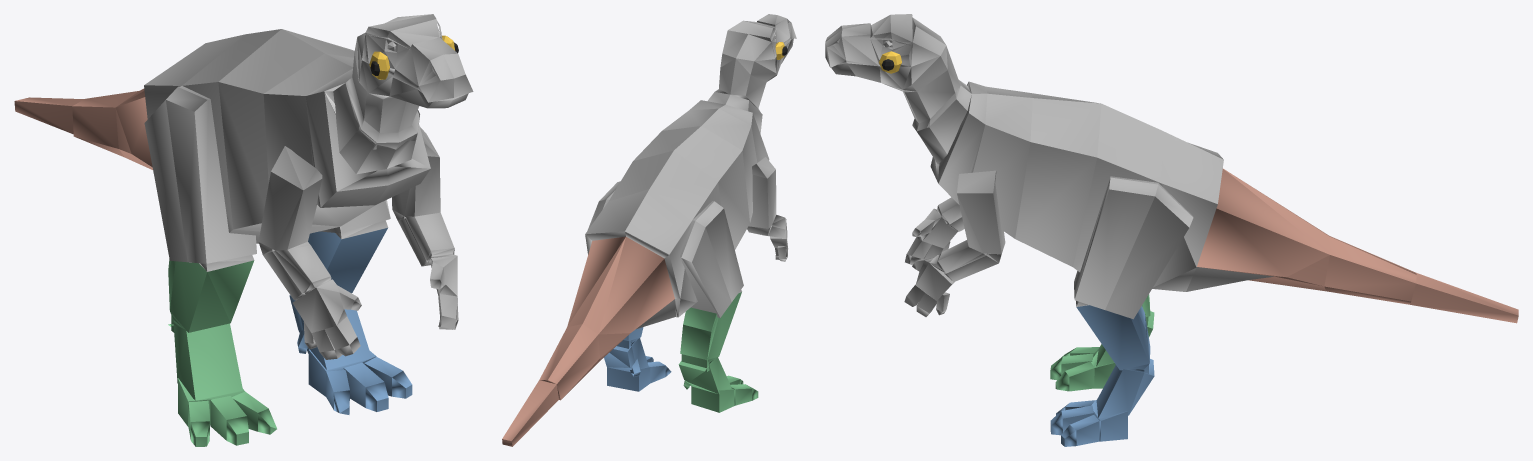
The model's file is iguano.fbx.
The picture shows the model from 3 angles, left to right: view 1: azimuth 30°, elevation 25°; view 2: azimuth 150°, elevation 25°; view 3: azimuth 270°, elevation 25°; orthographic projection. The views are drawn at different scales.
Parts seen in each view (by area): view 1: iguano_Body, iguano_LegR, iguano_LegL, iguano_Tail, iguano_Eyes; view 2: iguano_Body, iguano_Tail, iguano_LegR, iguano_LegL; view 3: iguano_Body, iguano_Tail, iguano_LegL, iguano_LegR.
Boxes of the visible parts, box(x1,y1,x2,y2) form: iguano_Body: box(144, 14, 473, 359); iguano_LegR: box(168, 259, 276, 446); iguano_LegL: box(289, 228, 412, 414); iguano_Tail: box(14, 88, 152, 169); iguano_Eyes: box(369, 35, 455, 79); iguano_Body: box(585, 14, 796, 329); iguano_Tail: box(502, 236, 674, 446); iguano_LegR: box(678, 292, 758, 412); iguano_LegL: box(604, 327, 671, 391); iguano_Body: box(825, 14, 1273, 319); iguano_Tail: box(1197, 168, 1518, 323); iguano_LegL: box(1050, 305, 1154, 446); iguano_LegR: box(1050, 294, 1154, 391).
Bounding box in the file's own units: 2.73 × 5.74 × 9.46.
